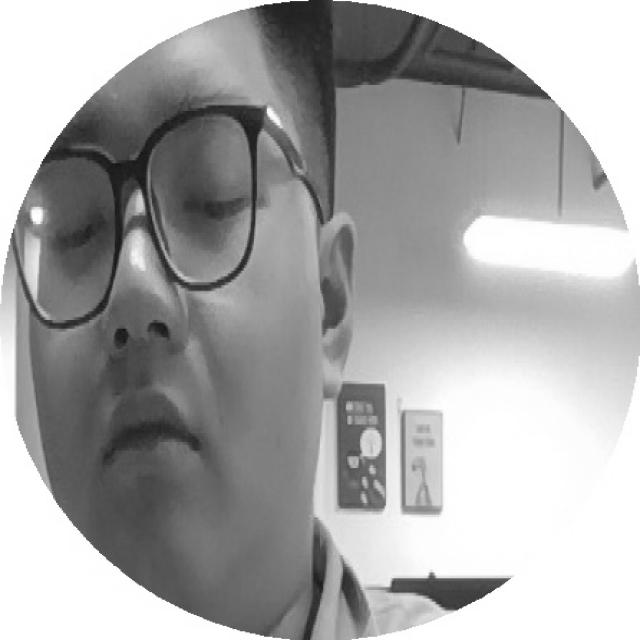real: (29, 40, 303, 551), (22, 151, 273, 272)
